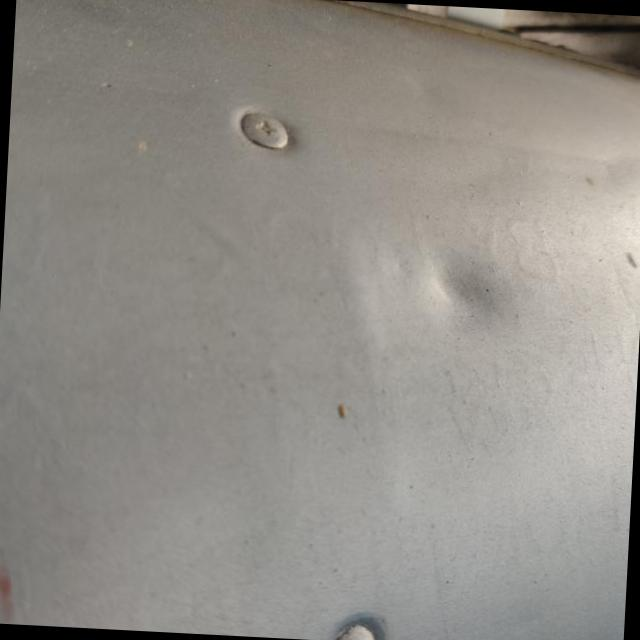Dent: (417, 246, 519, 323)
